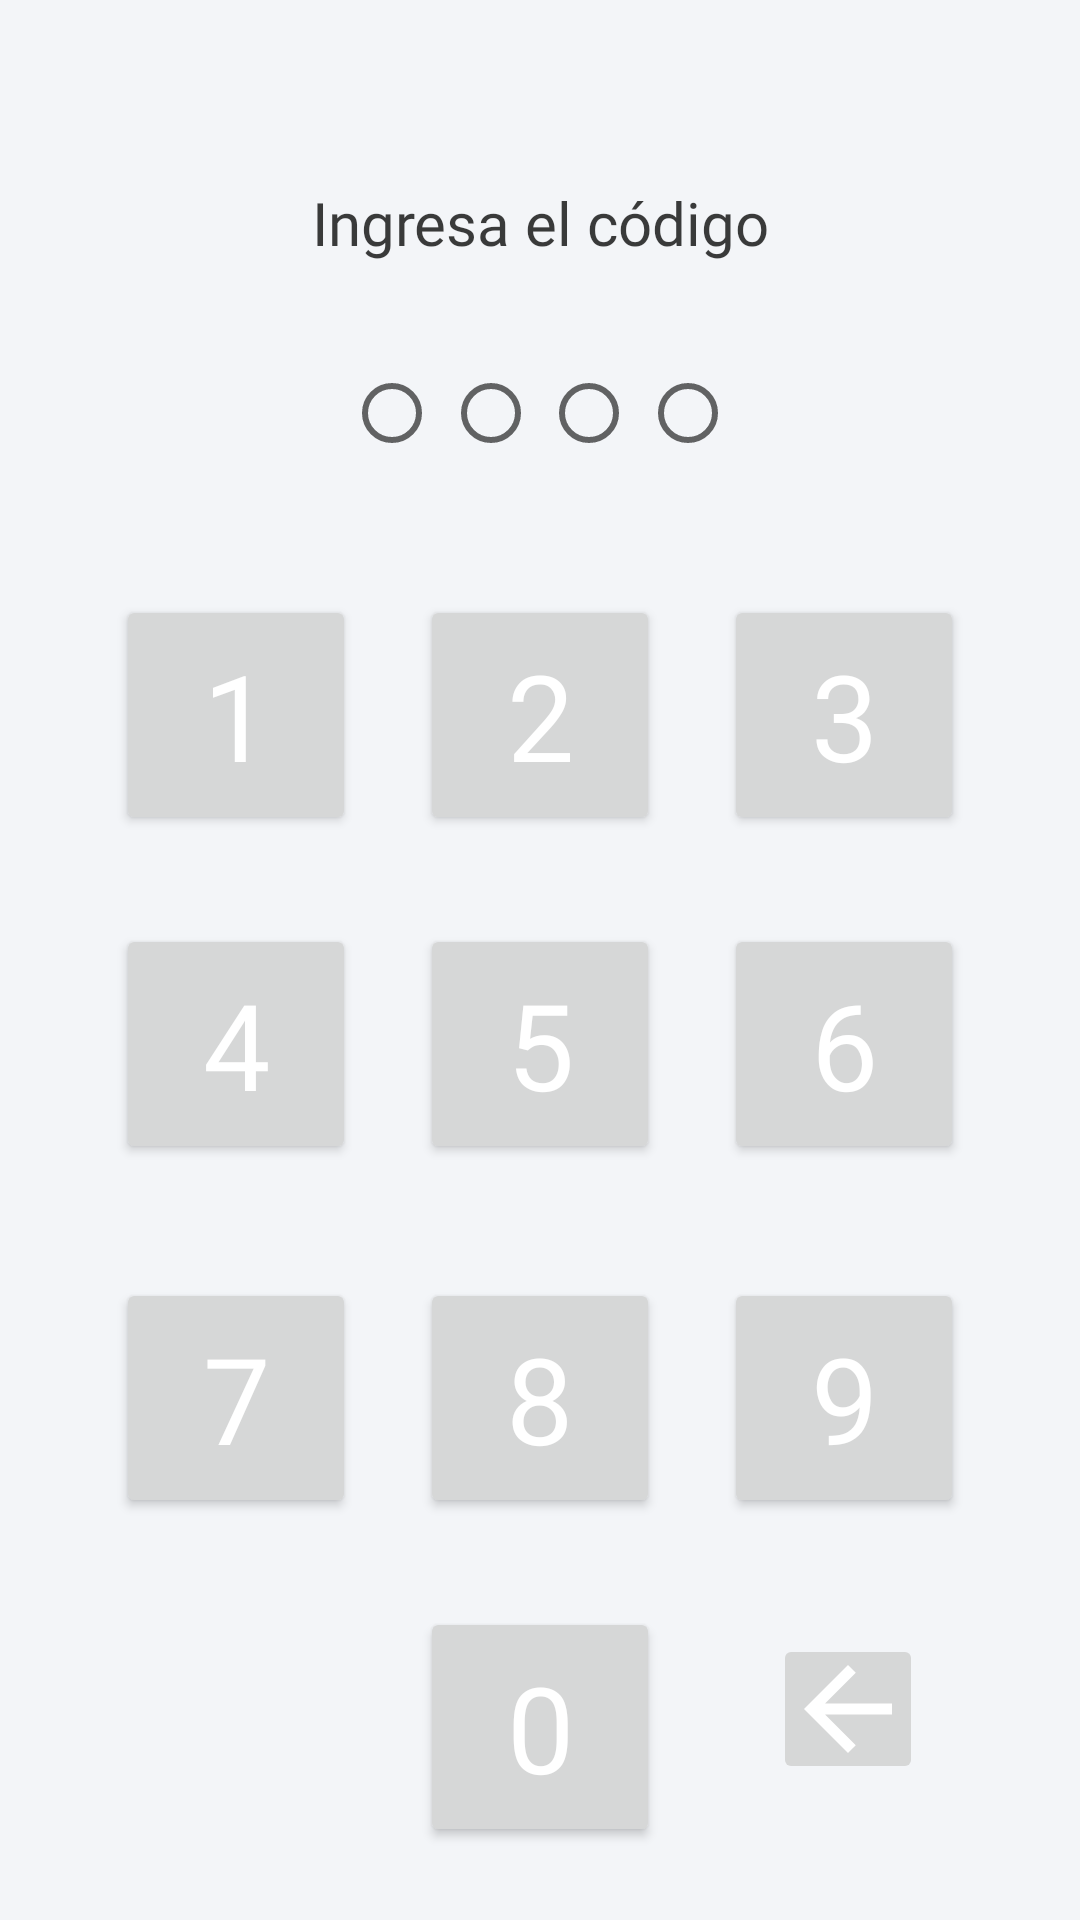

Screen size 1080x1920. Icon name, then its center in pixels as (x=x, y=y):
Back: (x=848, y=1709)
